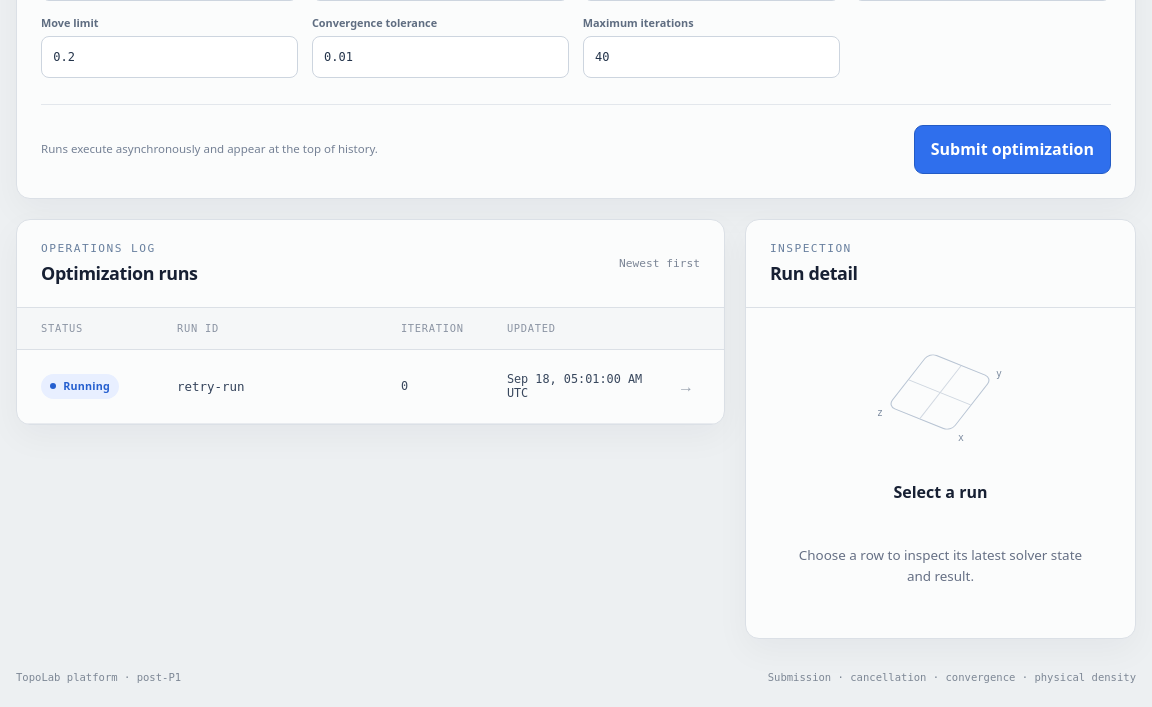
Test: App › keeps cancellation retryable after an API error
(page scrolled)
Click the button with aria-label "Open run retry-run" at (80, 386), box [17,350,724,424]
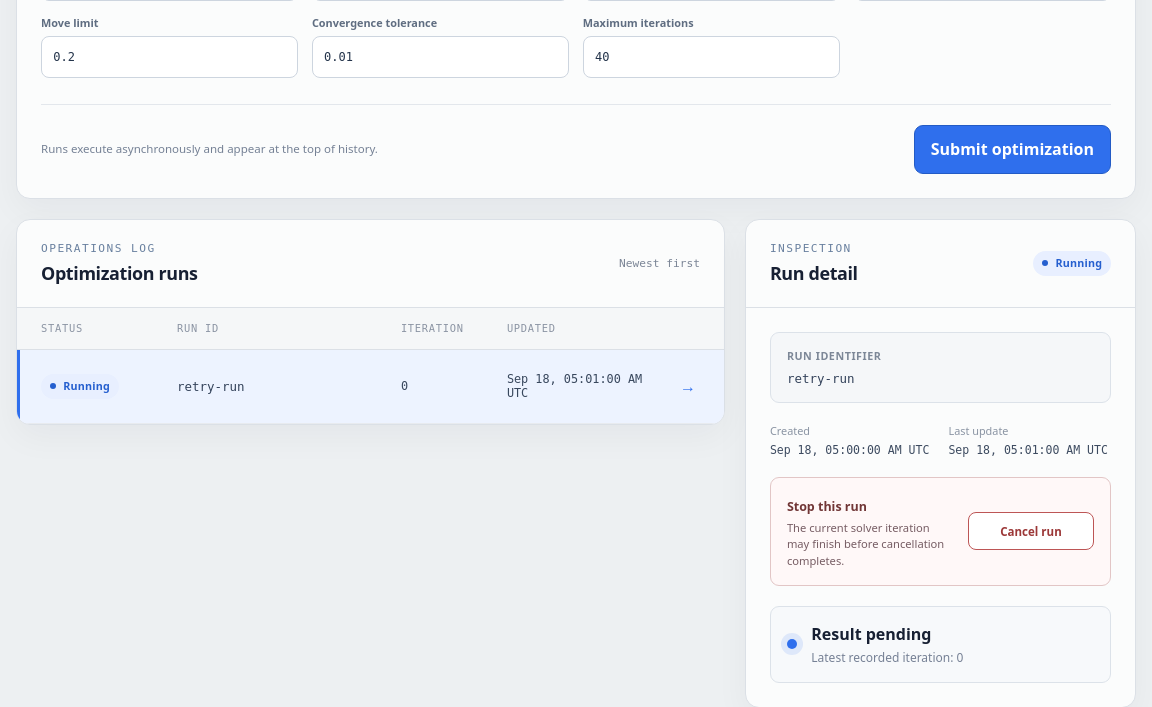
Click the button "Cancel run" at (1031, 531), box [968,512,1094,550]
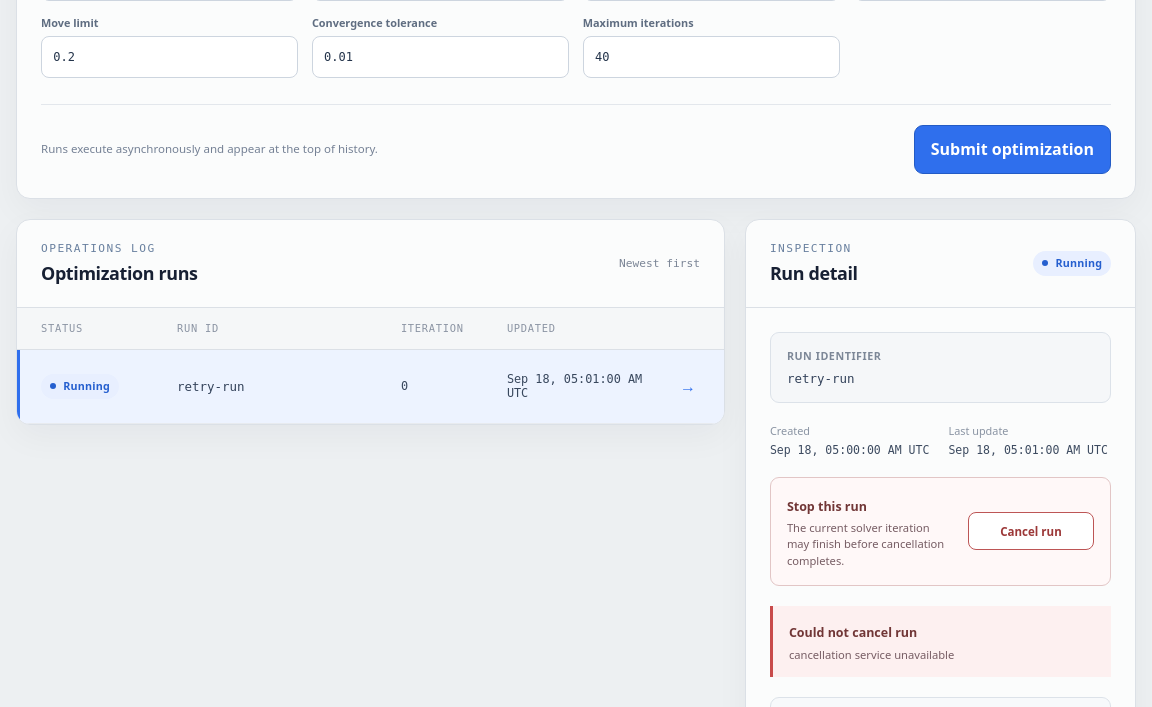
expect the button "Cancel run" is enabled: met, box [968,512,1094,550]
expect the text "cancellation service unavailable" is shown: met, box [789,647,954,662]
